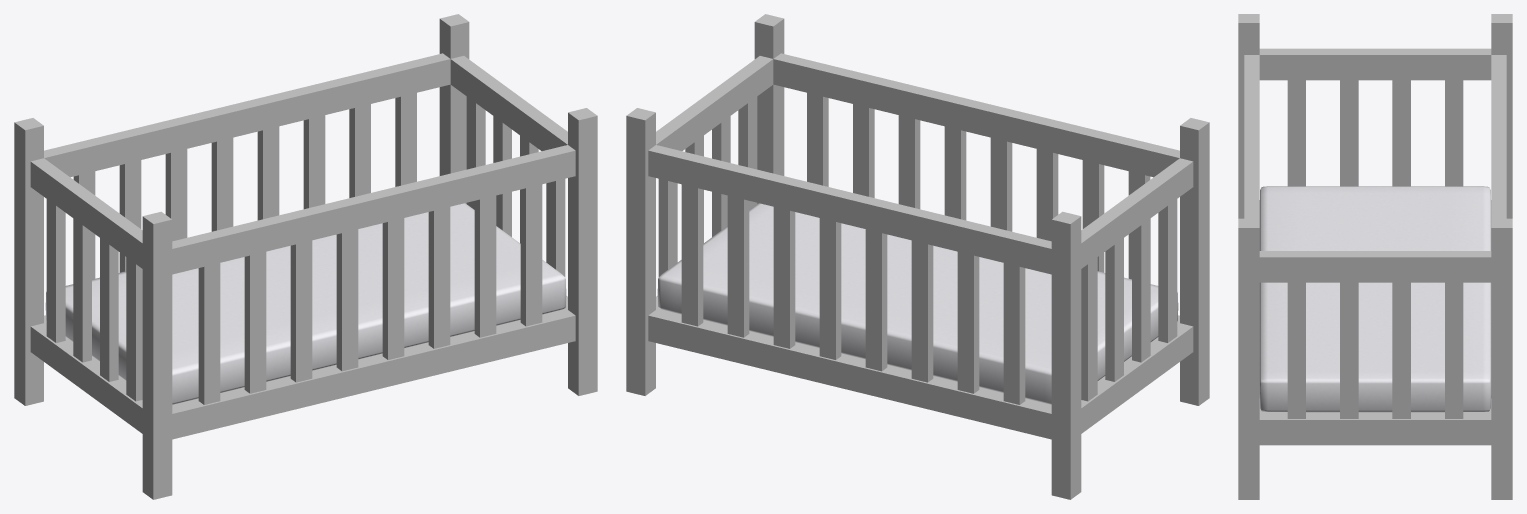
The model's file is Bed33.fbx.
3 renders of one model, left to right at view 1: azimuth 30°, elevation 25°; view 2: azimuth 150°, elevation 25°; view 3: azimuth 270°, elevation 25°, orthographic.
Parts seen in each view (by area): view 1: BedFrame33, Mattress33; view 2: BedFrame33, Mattress33; view 3: BedFrame33, Mattress33.
Boxes of the visible parts, <box> form: BedFrame33: <box>14,14,597,499</box>; Mattress33: <box>45,203,566,404</box>; BedFrame33: <box>626,14,1209,499</box>; Mattress33: <box>657,203,1178,404</box>; BedFrame33: <box>1238,14,1512,499</box>; Mattress33: <box>1259,186,1491,412</box>.
Size of the model in its own units: 139 by 82.21 by 75.13.
